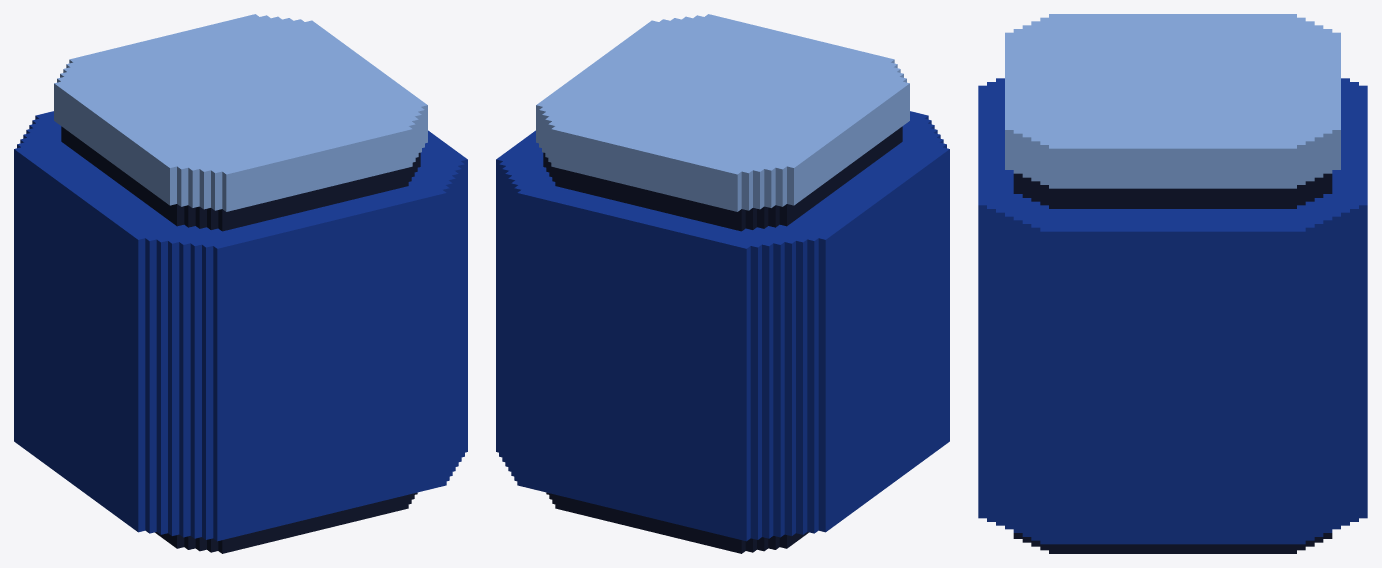
File: boots_heavy_worn_shaft.glb
The picture shows the model from 3 angles, left to right: view 1: azimuth 30°, elevation 25°; view 2: azimuth 150°, elevation 25°; view 3: azimuth 270°, elevation 25°; orthographic projection. The views are drawn at different scales.
Visible parts, largest first — view 1: boots_heavy_worn_shaft:compound; view 2: boots_heavy_worn_shaft:compound; view 3: boots_heavy_worn_shaft:compound.
Part boxes in pixels (x1,y1,x2,y2): boots_heavy_worn_shaft:compound: [14, 14, 467, 553]; boots_heavy_worn_shaft:compound: [496, 14, 949, 553]; boots_heavy_worn_shaft:compound: [978, 14, 1367, 553].
Size of the model in its own units: 0.184 by 0.204 by 0.176.
